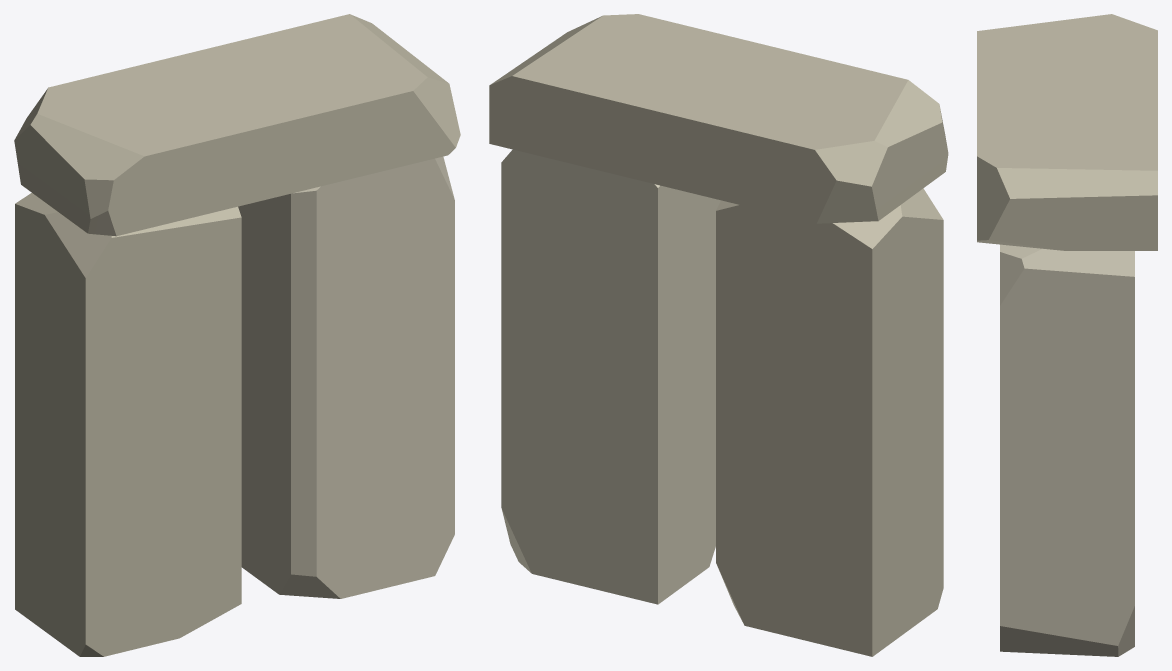
Rendered from Stonehenge_02.fbx.
3 renders of one model, left to right at view 1: azimuth 30°, elevation 25°; view 2: azimuth 150°, elevation 25°; view 3: azimuth 270°, elevation 25°, orthographic. The views are drawn at different scales.
Visible parts, largest first — view 1: Stonehenge_02; view 2: Stonehenge_02; view 3: Stonehenge_02.
Boxes of the visible parts, box(x1,y1,x2,y2) form: Stonehenge_02: box(14, 14, 460, 656); Stonehenge_02: box(489, 14, 948, 656); Stonehenge_02: box(977, 14, 1157, 656).
Bounding box in the file's own units: 450 × 585 × 200.
